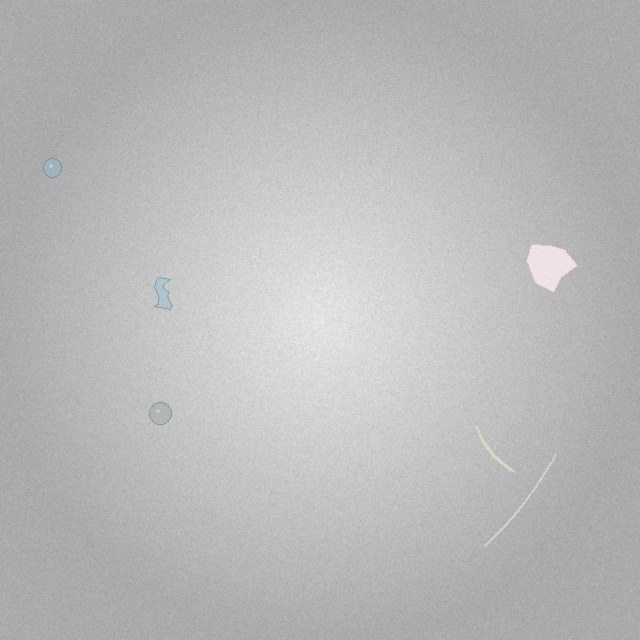fiber: (481, 452, 558, 549), (473, 423, 518, 475)
film: (154, 278, 172, 309)
fragment: (527, 245, 577, 292)
pellet: (149, 402, 171, 425), (43, 158, 62, 177)
